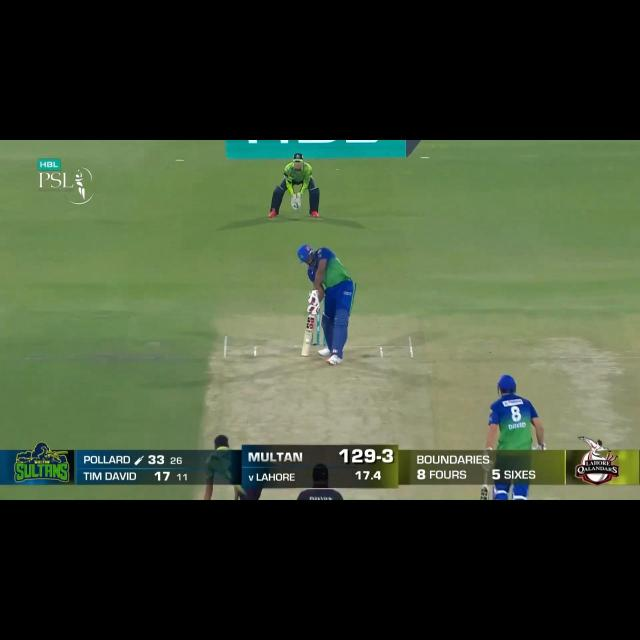bat: (300, 308, 316, 359), (473, 481, 497, 504)
toe: (301, 346, 312, 358)
